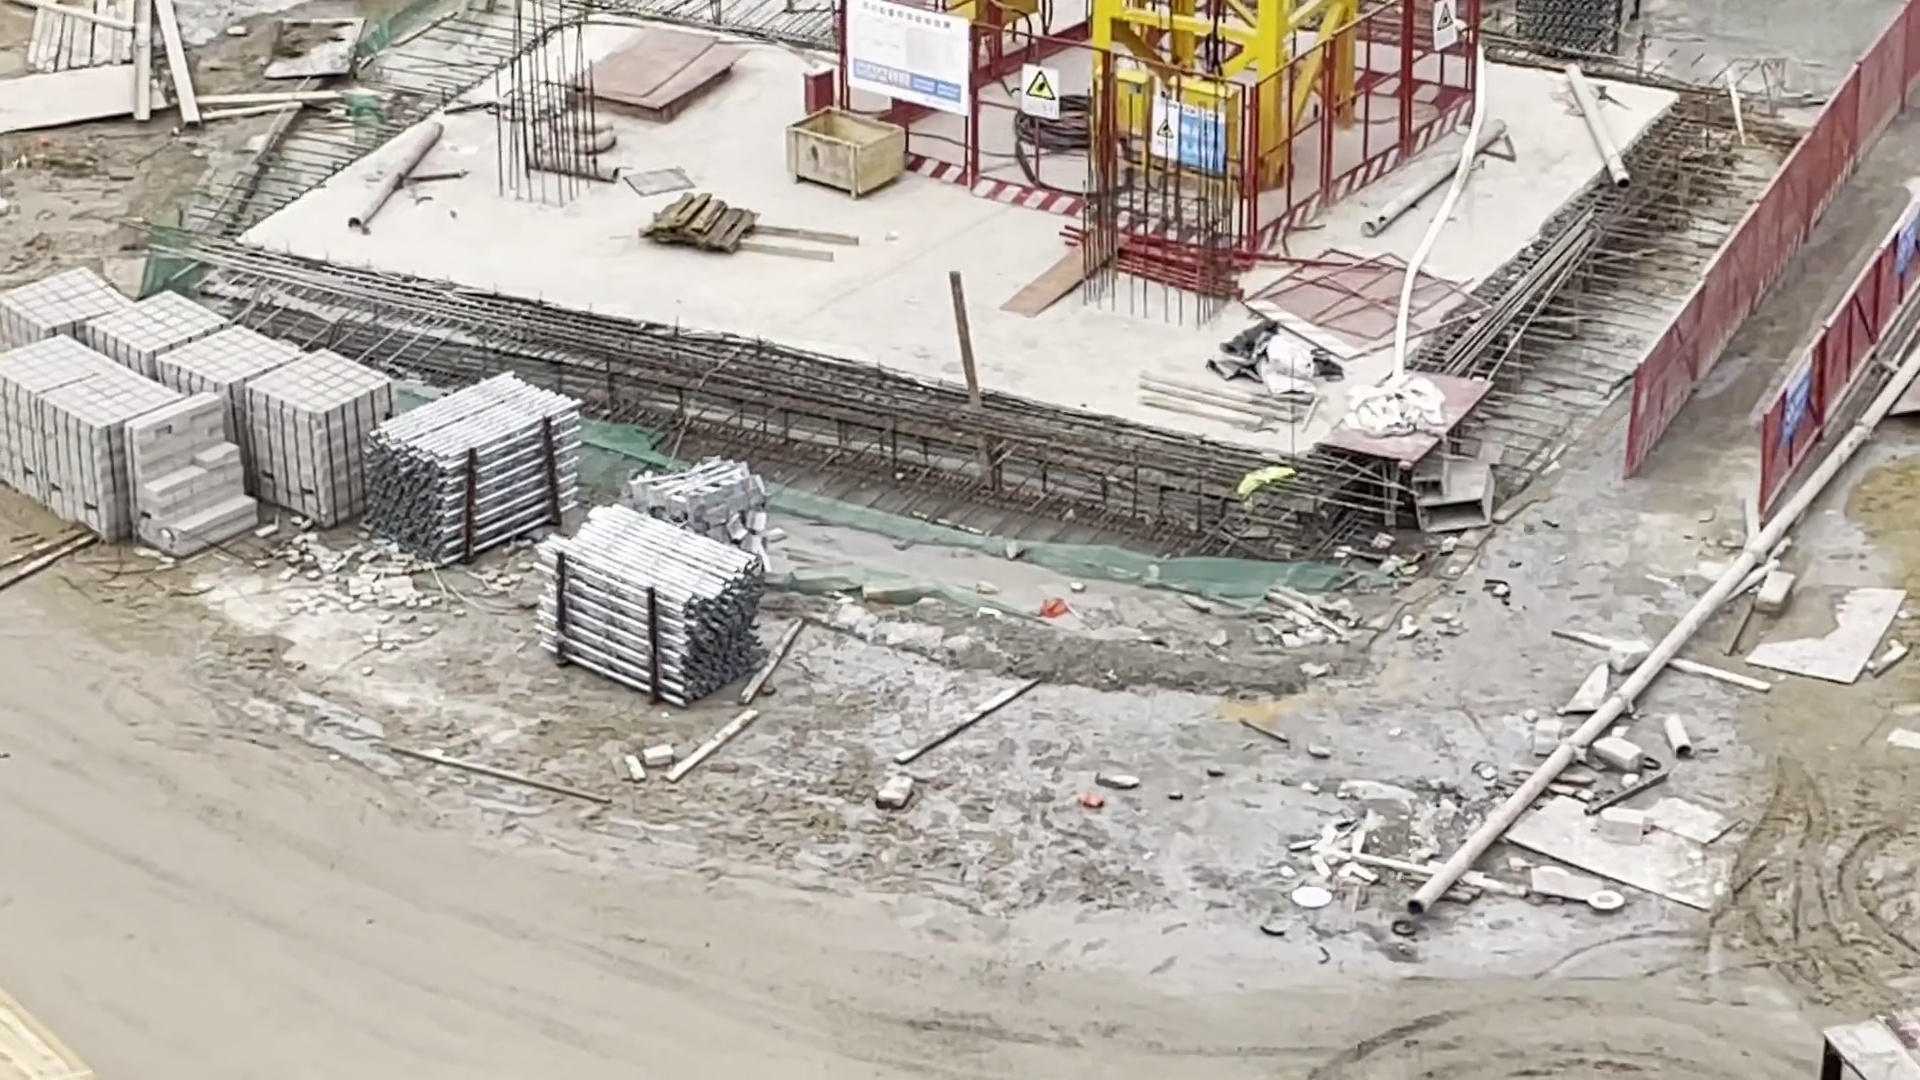brick: (1, 261, 396, 587)
ebox: (1083, 57, 1265, 189)
fence: (819, 4, 1244, 280), (1607, 149, 1826, 531), (1241, 4, 1498, 301), (1795, 3, 1920, 448)
hopper: (781, 94, 930, 211)
scaffold: (531, 501, 783, 738), (368, 359, 587, 589)
slogan: (825, 1, 978, 123), (1125, 84, 1245, 193), (1768, 332, 1840, 458), (1865, 207, 1920, 286), (1013, 58, 1064, 127), (1429, 4, 1480, 65)
